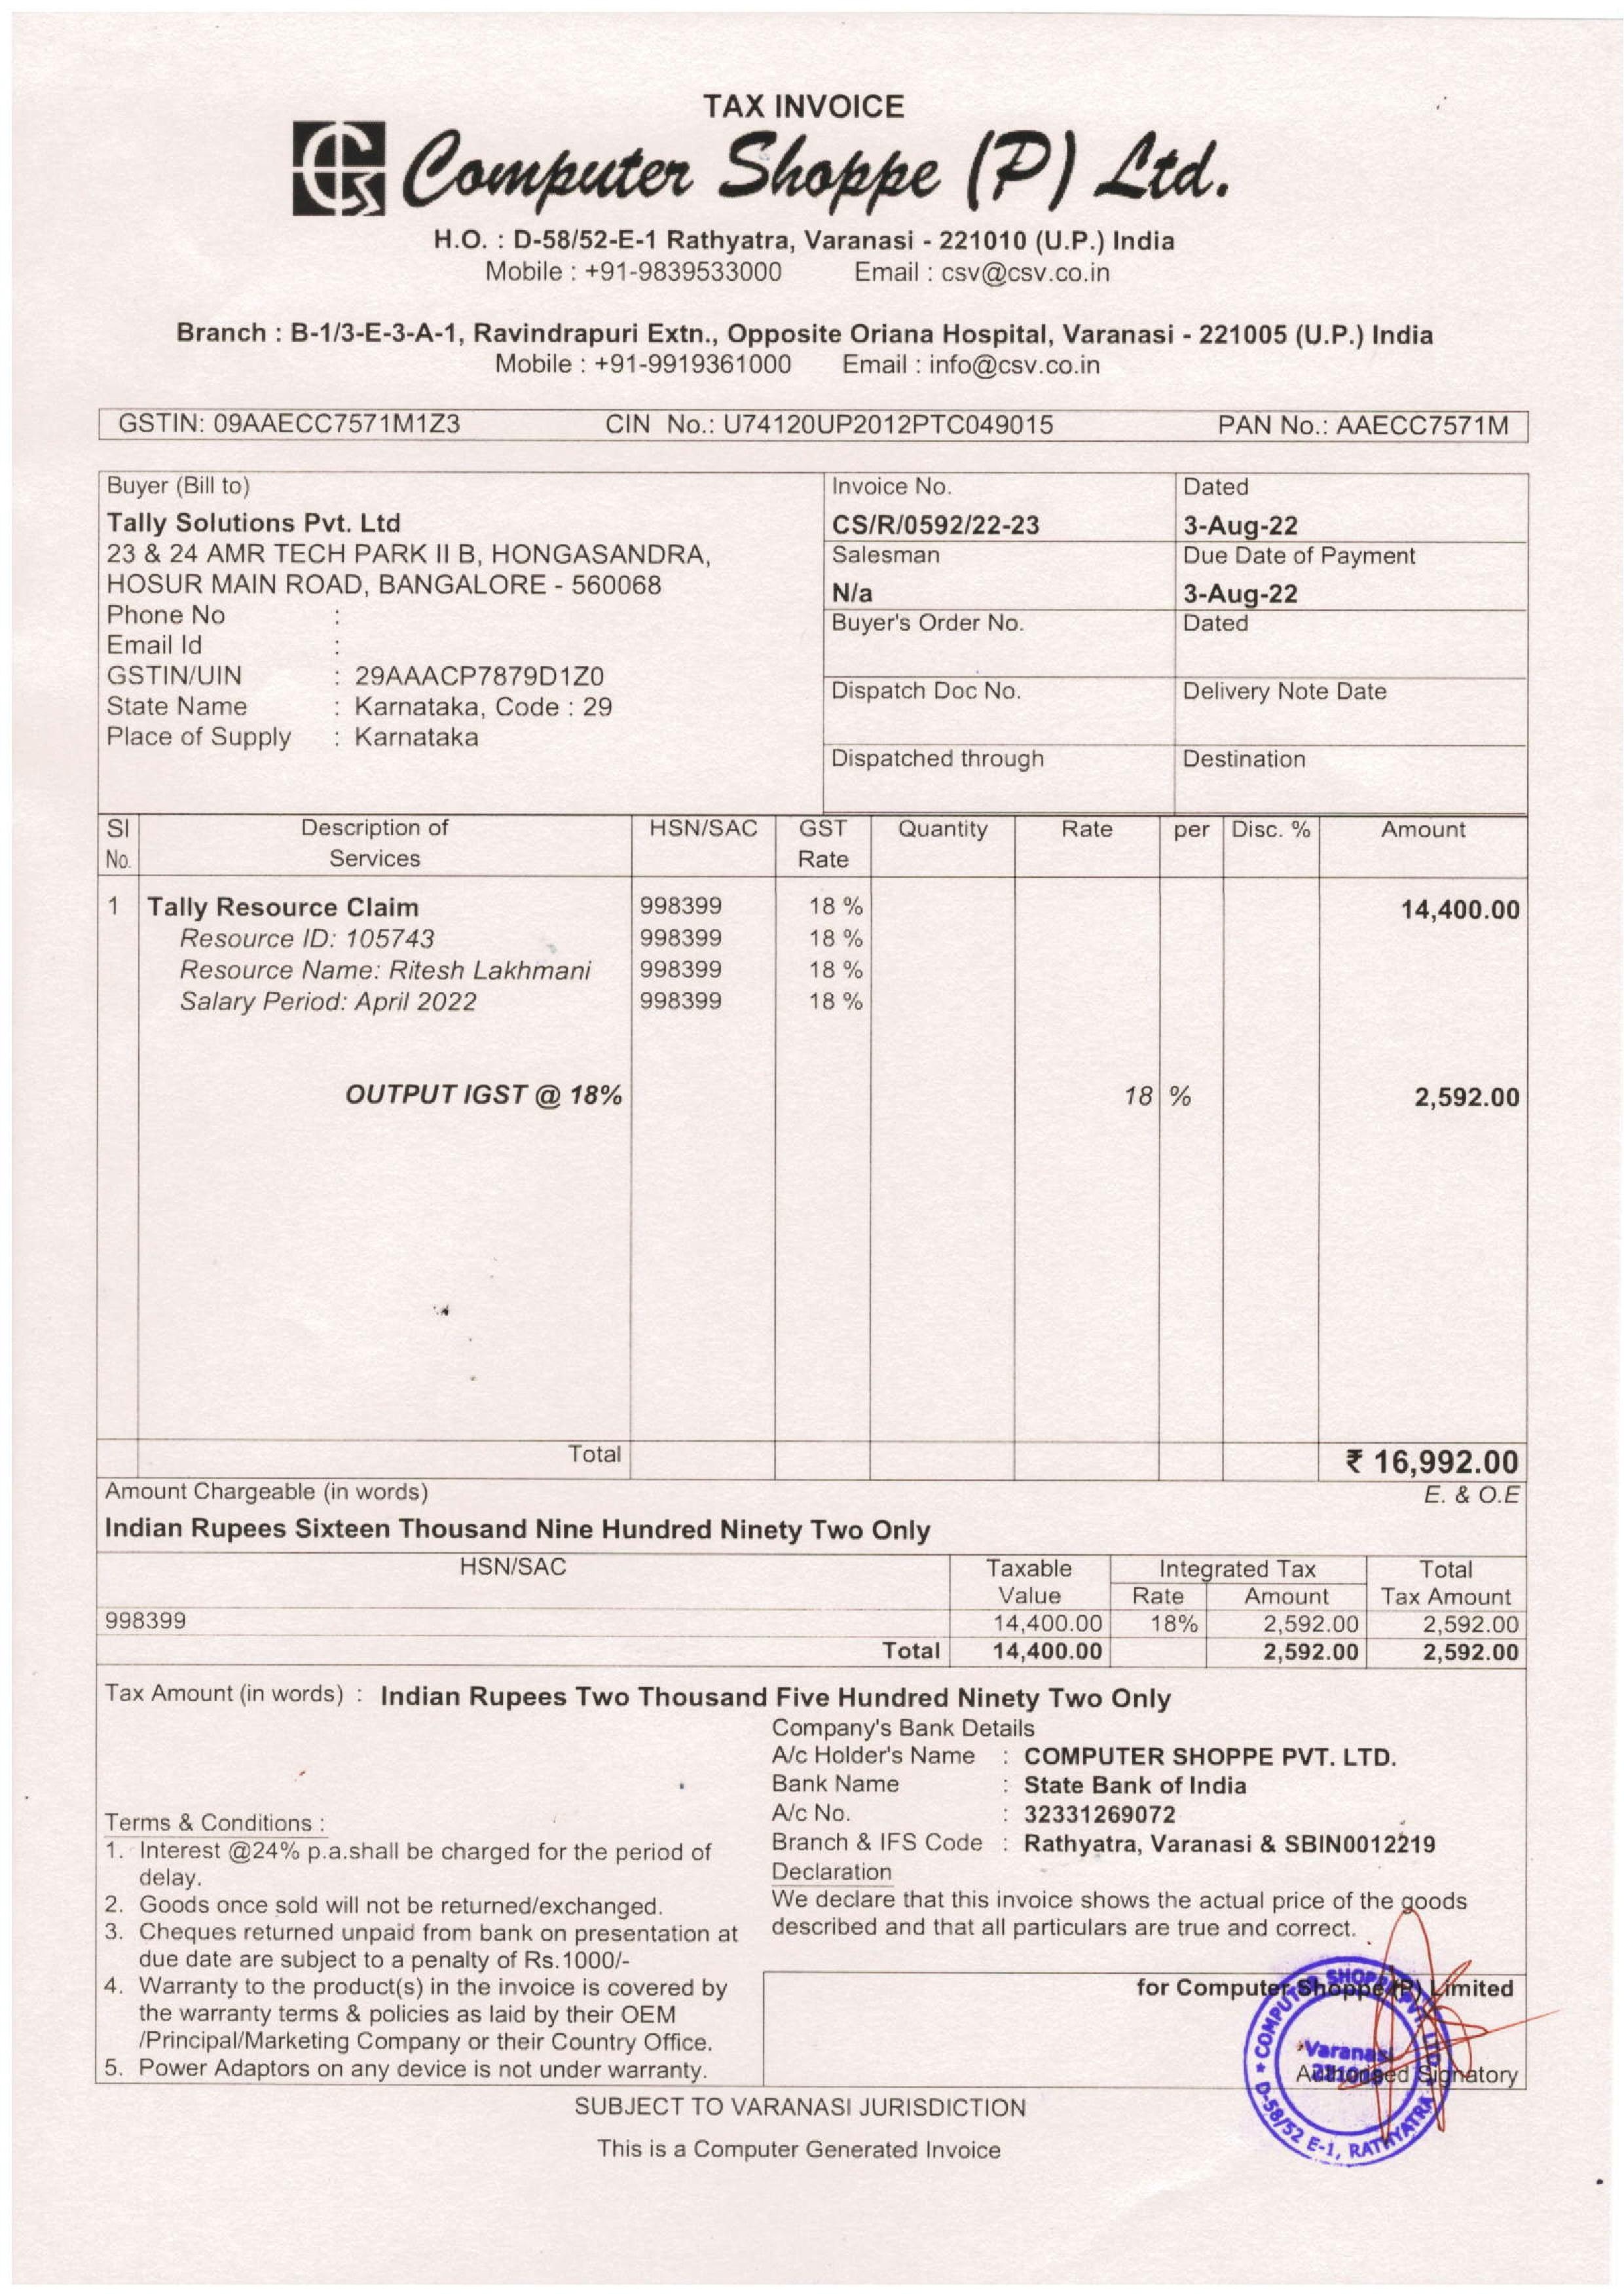InvoiceDate: (1176, 509, 1311, 539)
InvoiceNumber: (828, 506, 1056, 543)
TotalAmount: (1339, 1442, 1526, 1481)
